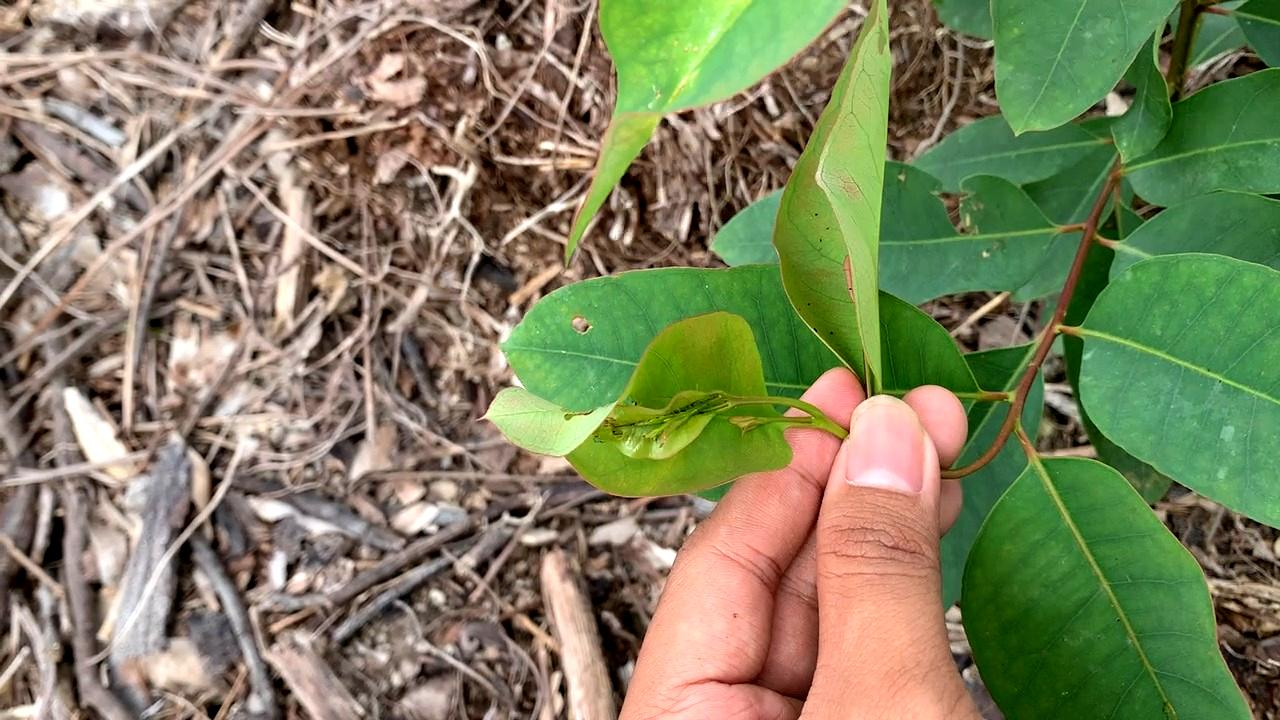Leaf Roller - Leaf: (473, 309, 792, 490)
